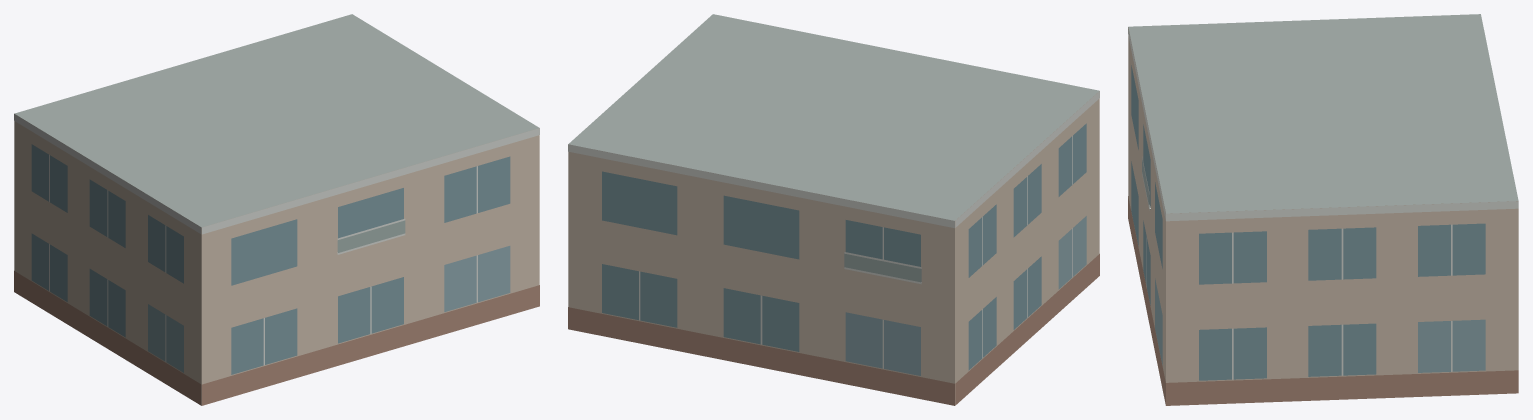
Rendered from survey-upis-32724096.glb.
3 views of the same model, side by side, from view 1: azimuth 30°, elevation 25°; view 2: azimuth 150°, elevation 25°; view 3: azimuth 270°, elevation 25° (orthographic). The views are drawn at different scales.
Visible parts, largest first — view 1: survey-upis-32724096.tmp; view 2: survey-upis-32724096.tmp; view 3: survey-upis-32724096.tmp.
Boxes of the visible parts, <box> form: survey-upis-32724096.tmp: <box>14,14,539,405</box>; survey-upis-32724096.tmp: <box>568,14,1099,405</box>; survey-upis-32724096.tmp: <box>1128,14,1518,405</box>.
Bounding box in the file's own units: 13.59 × 6.1 × 11.24.
